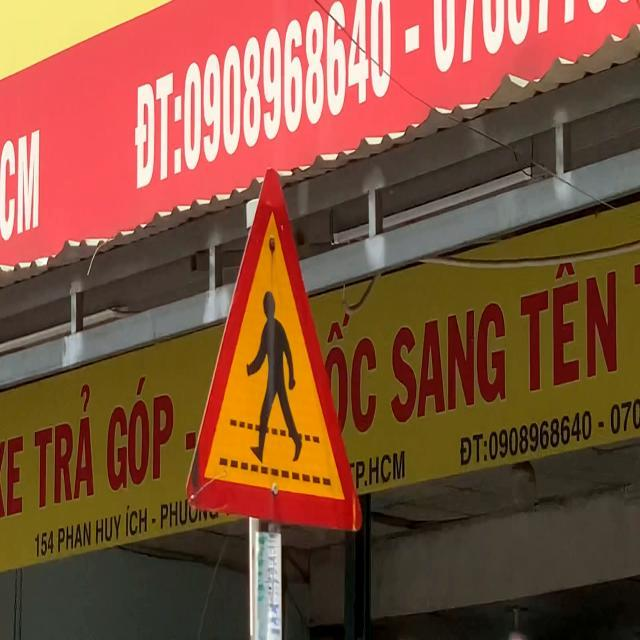Nguoi di bo cat ngang: (184, 165, 364, 537)
